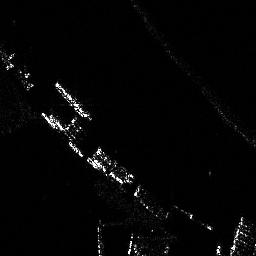ship: (53, 80, 92, 122)
